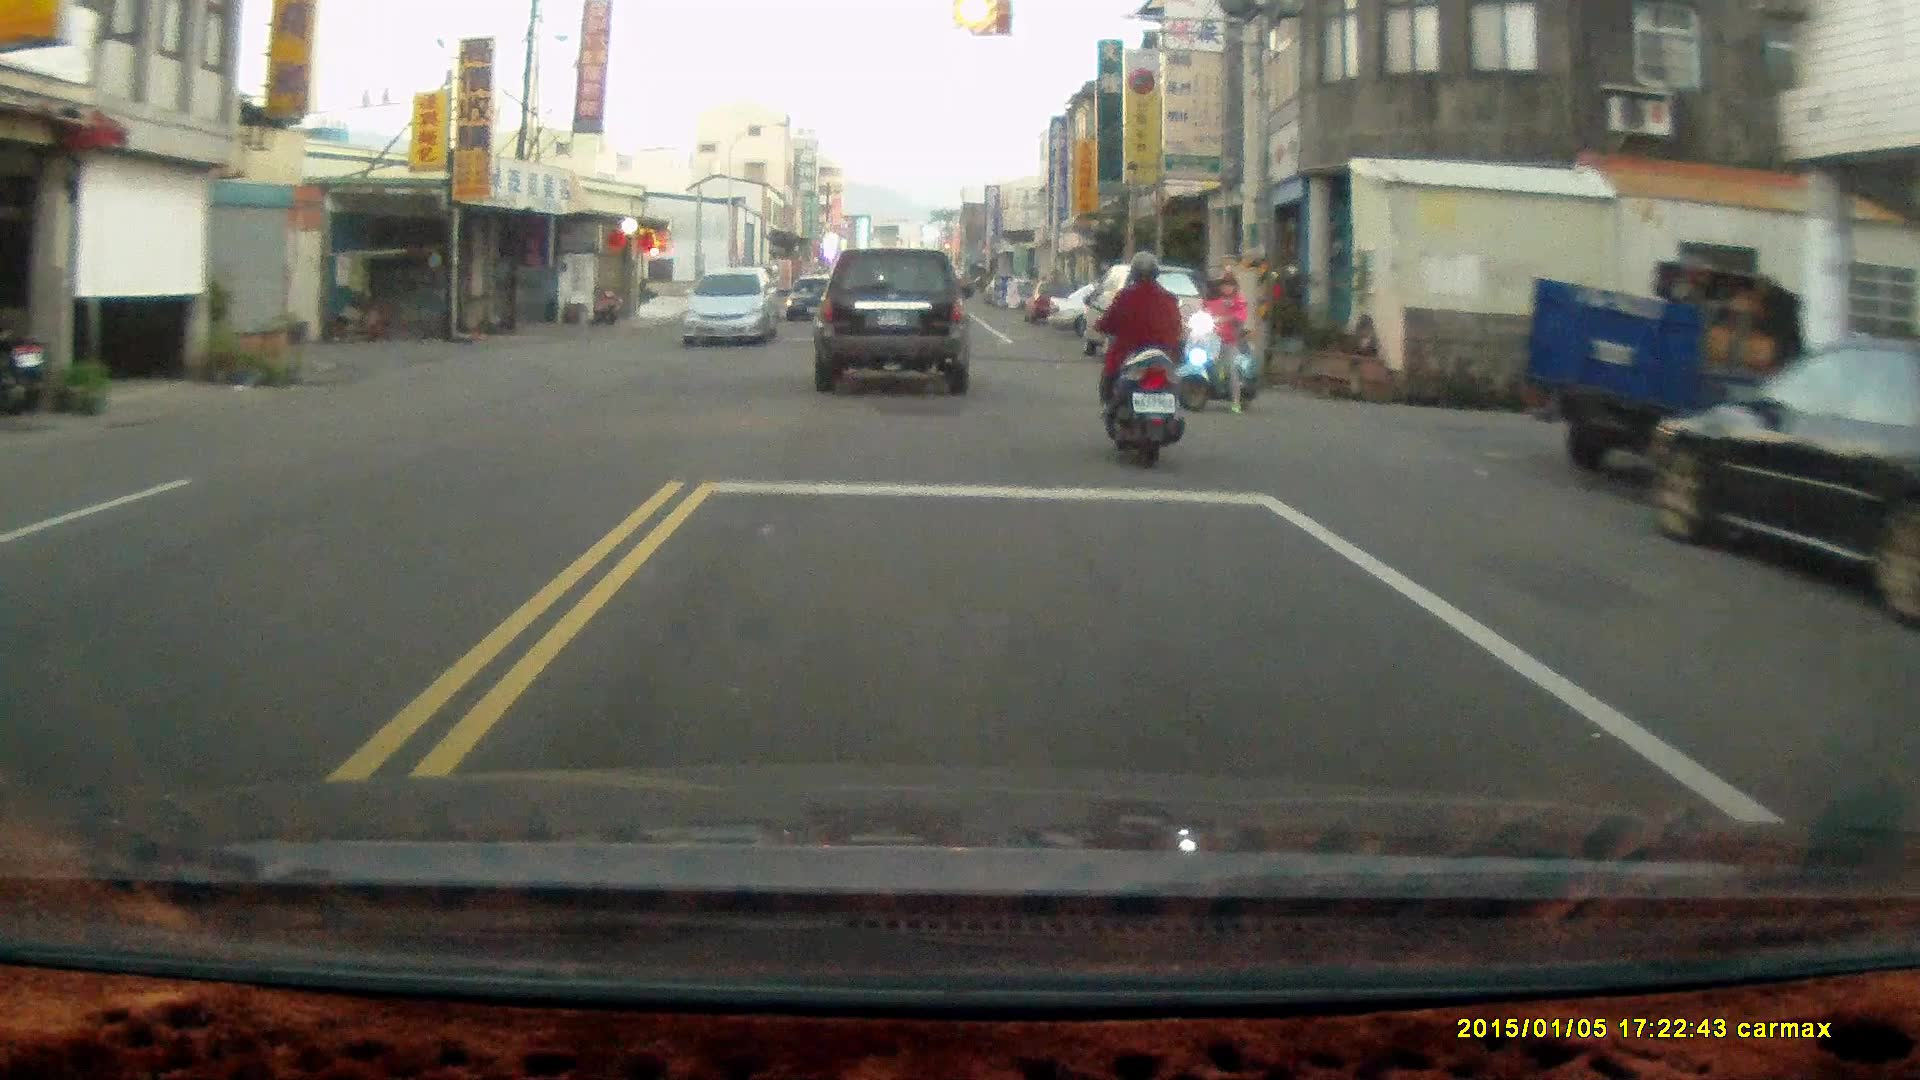rider: (1097, 250, 1182, 478), (1181, 267, 1260, 418)
vehicle: (1651, 335, 1920, 601), (1522, 259, 1814, 485), (812, 249, 980, 403), (1087, 264, 1216, 363), (680, 266, 785, 347)
